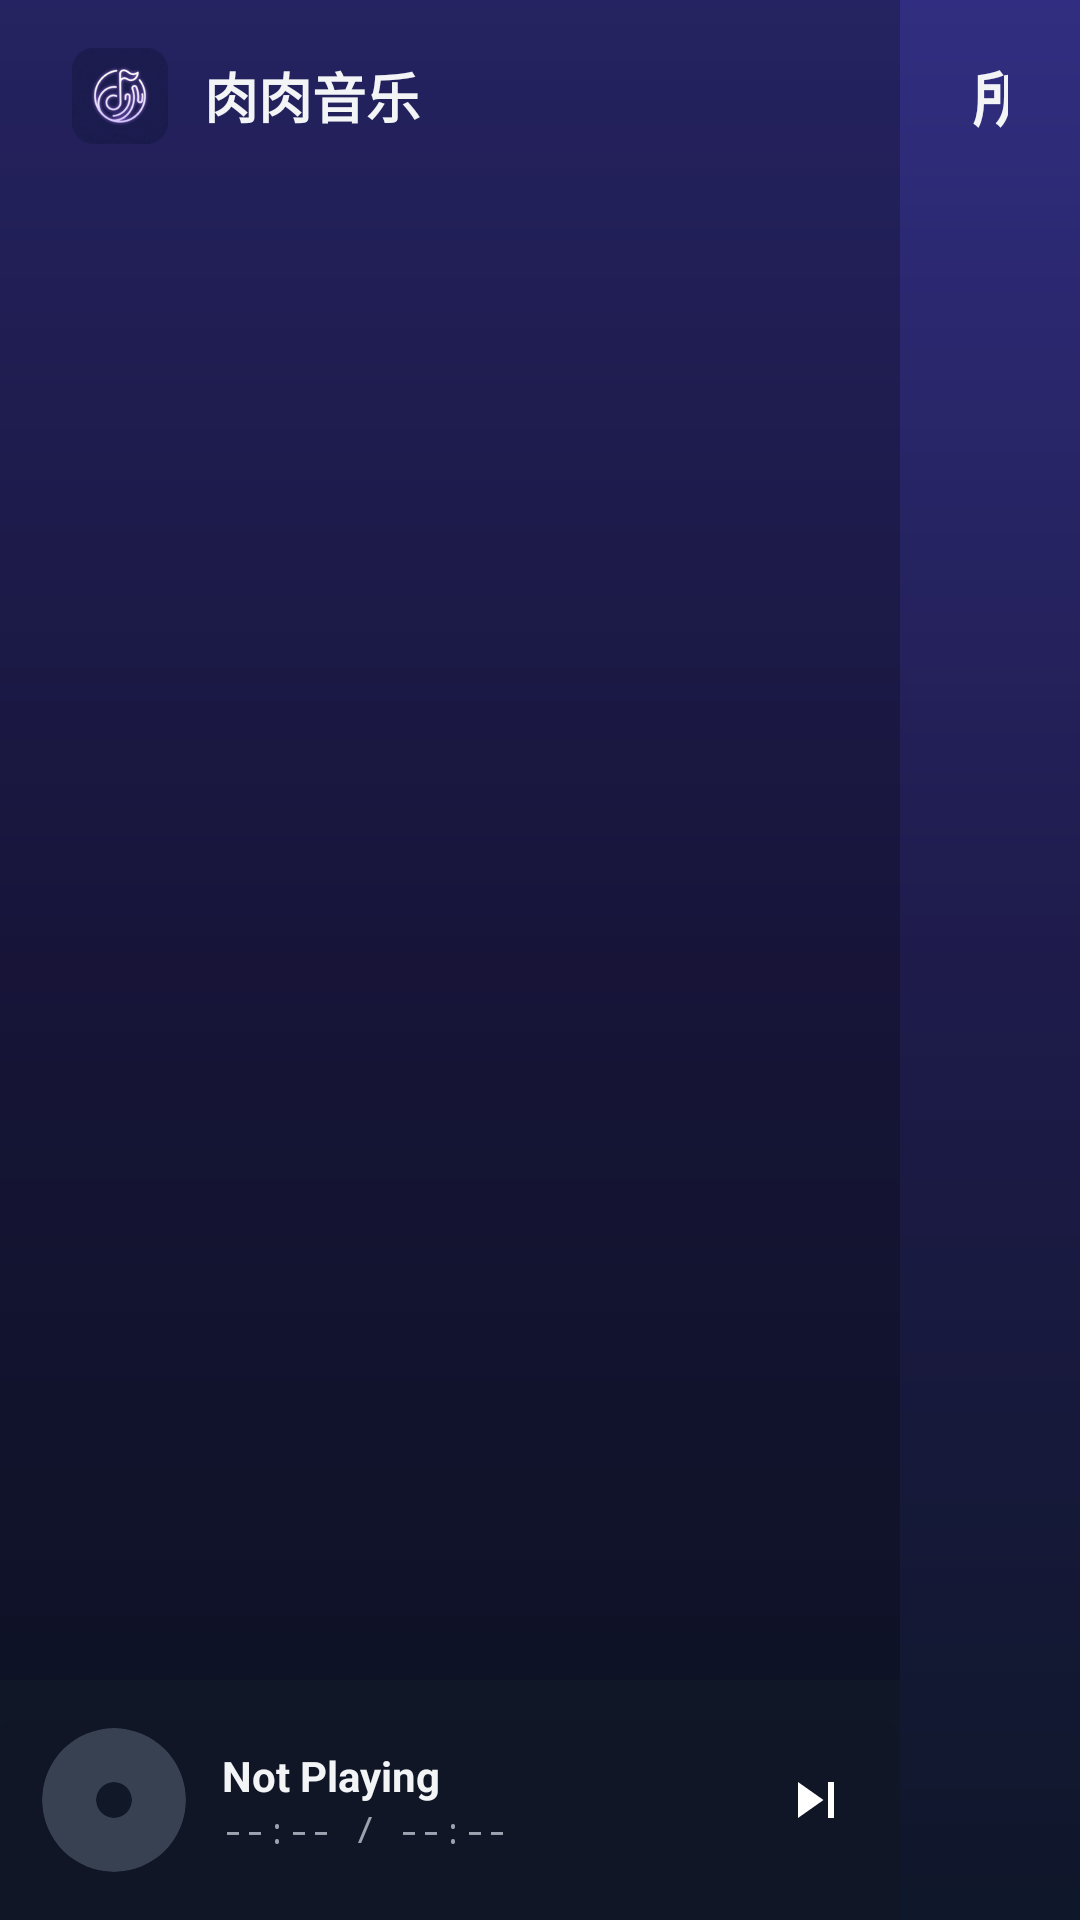

Screen size 1080x1920. Icon name, then its box in pixels as bbox(x1, y1, x2, y2):
next: bbox(798, 1782, 834, 1818)
